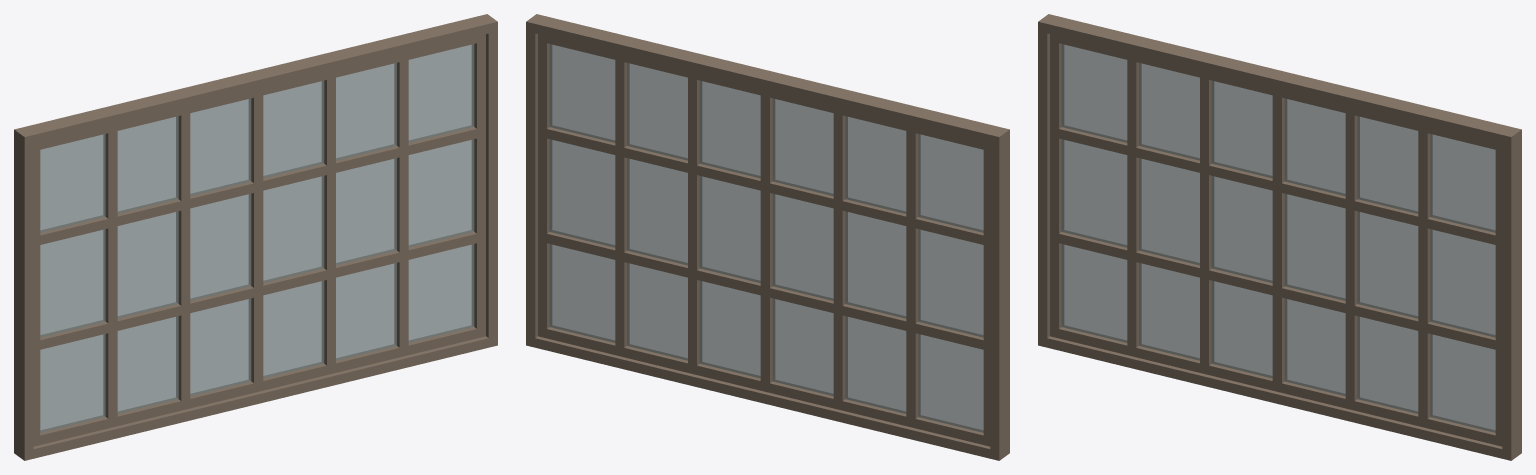
The model's file is victorian_display_window.fbx.
3 views of the same model, side by side, from view 1: azimuth 30°, elevation 25°; view 2: azimuth 150°, elevation 25°; view 3: azimuth 330°, elevation 25° (orthographic).
Visible parts, largest first — view 1: Cube.222; view 2: Cube.222; view 3: Cube.222.
Boxes of the visible parts, x1,y1,x2,y2 form: Cube.222: (14,14,497,460); Cube.222: (526,14,1009,460); Cube.222: (1038,14,1521,460).
Size of the model in its own units: 260 by 170 by 10.
